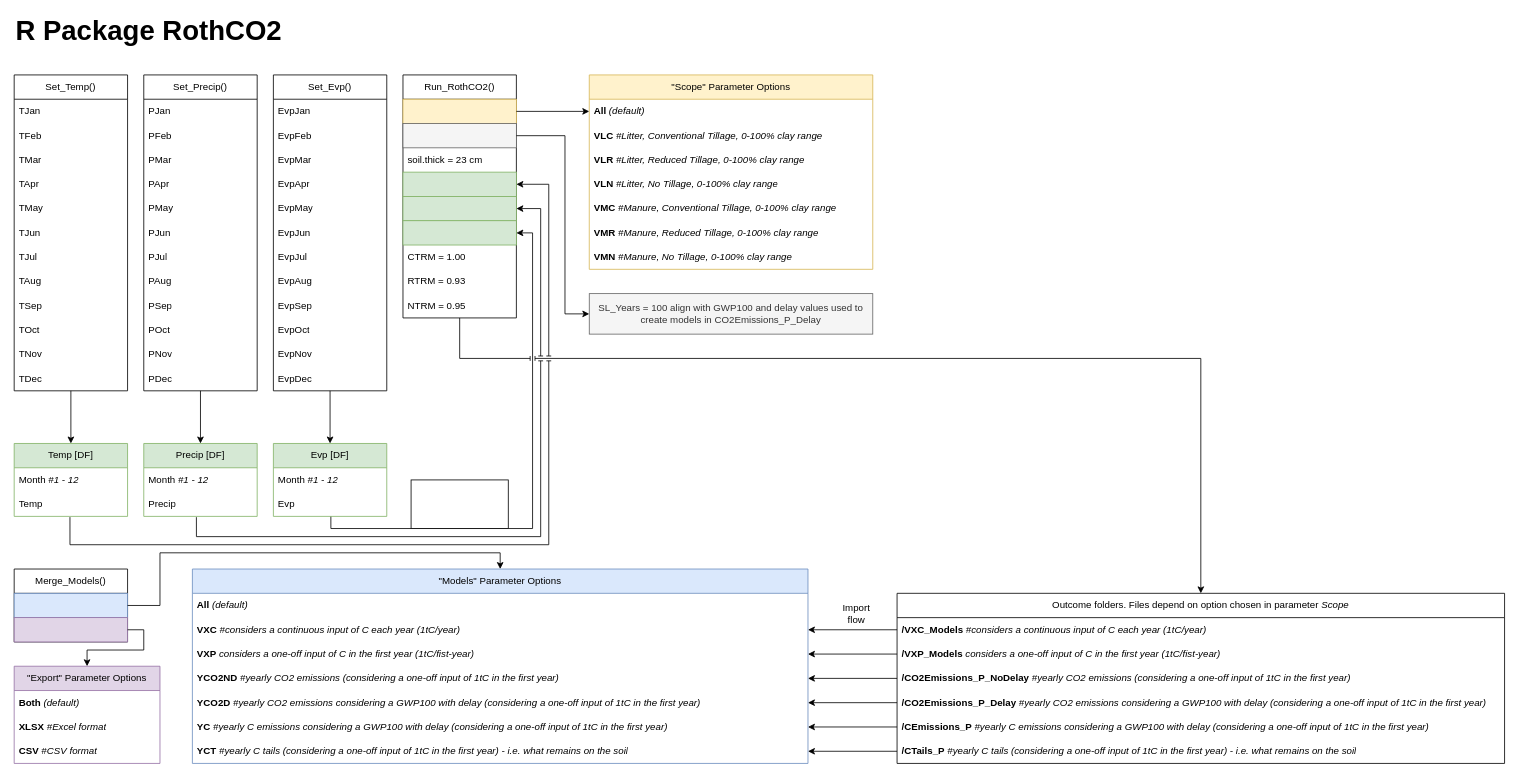
This 1519x778 diagram has some shape labels left out. The shapes that lost their labels are listed below. From the top down, each one's centre as x and y in pixels, then its label:
(459,111): Scope = "All"
(459,135): SL_Years = 100 years
(459,183): Tem = Temp [DF]
(459,208): Pre = Precip [DF]
(459,232): Eva = Evp [DF]
(70,605): Models = "All"
(70,629): Export = "Both"
